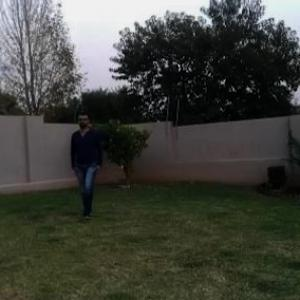follow: (69, 110, 104, 219)
